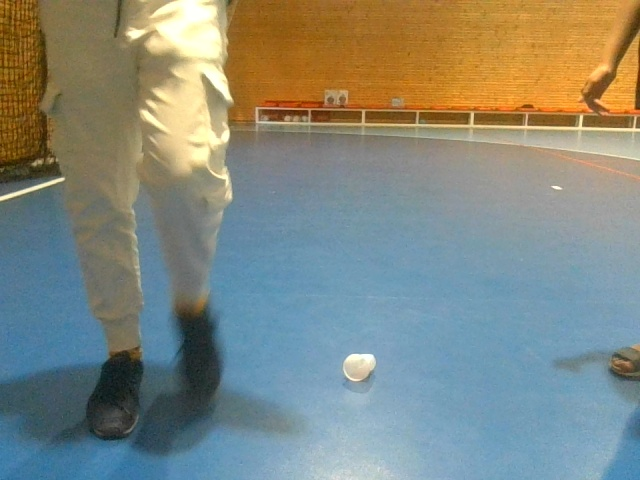plasticcup: (343, 352, 377, 383)
